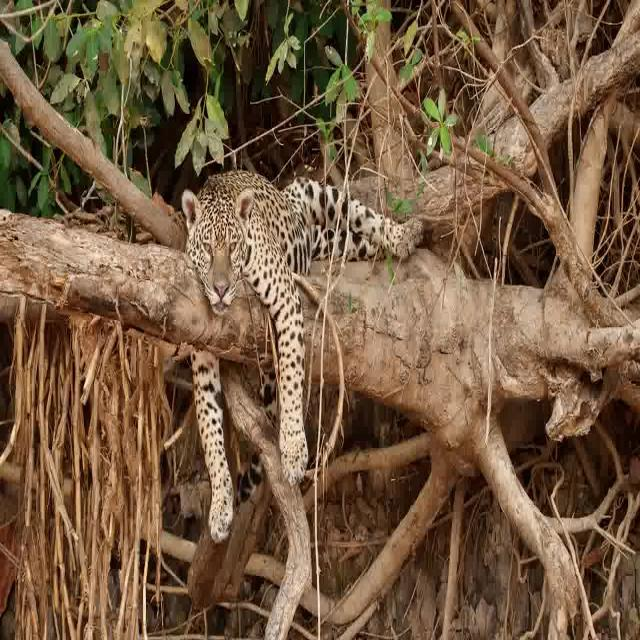Jaguar: (172, 96, 442, 567)
